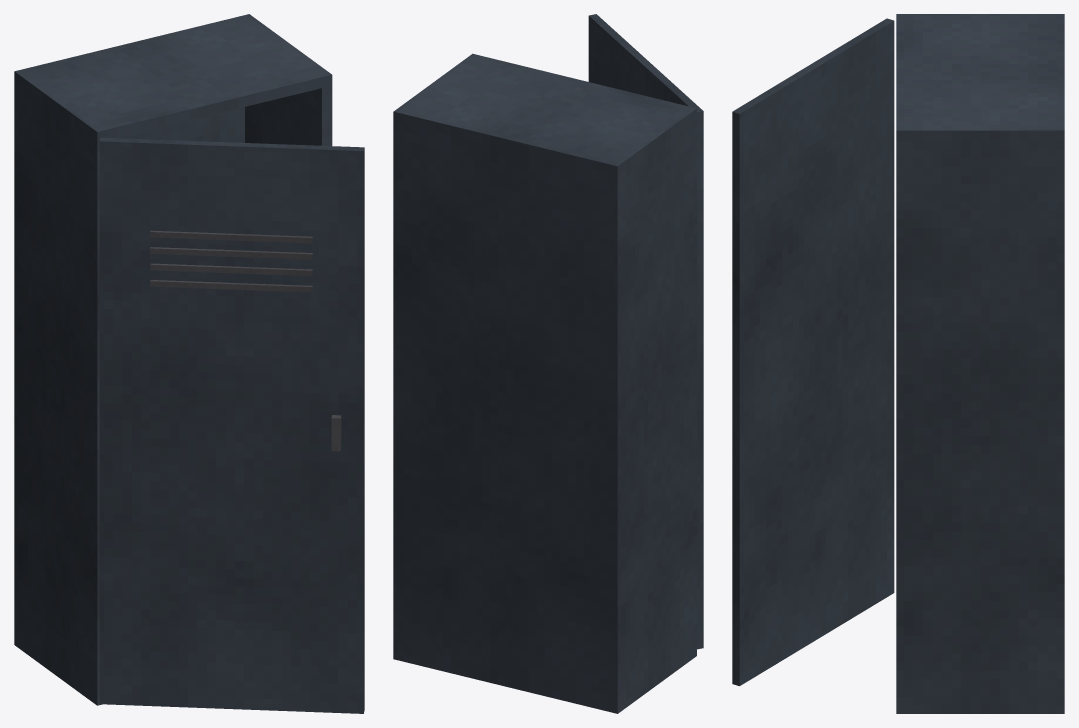
Rendered from int_locker.glb.
3 renders of one model, left to right at view 1: azimuth 30°, elevation 25°; view 2: azimuth 150°, elevation 25°; view 3: azimuth 270°, elevation 25°, orthographic. The views are drawn at different scales.
Visible parts, largest first — view 1: detail, body-col; view 2: body-col, detail; view 3: body-col, detail.
Boxes of the visible parts, left/top/right/bottom form: detail: left=99, top=137, right=364, bottom=713; body-col: left=14, top=14, right=332, bottom=705; body-col: left=393, top=53, right=696, bottom=713; detail: left=588, top=14, right=703, bottom=649; body-col: left=896, top=14, right=1064, bottom=713; detail: left=732, top=18, right=894, bottom=686.
Size of what is drawn, in the model's own units: 0.909 by 2.1 by 1.09.
2 materials, 2 textured.
